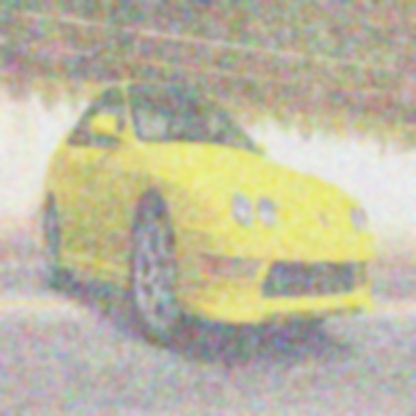Vehicle: (39, 79, 377, 347)
